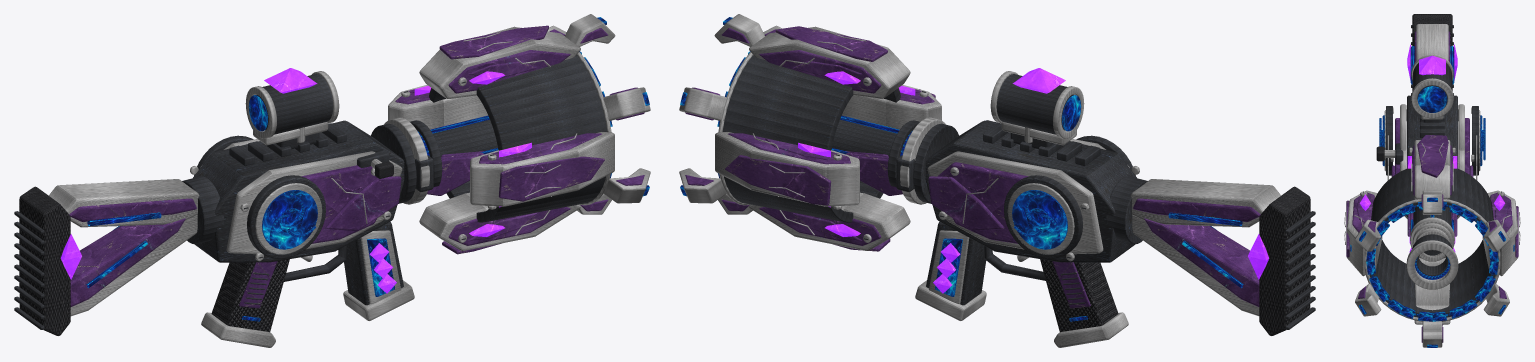
Rendered from prism-grenade.glb.
3 renders of one model, left to right at view 1: azimuth 30°, elevation 25°; view 2: azimuth 150°, elevation 25°; view 3: azimuth 270°, elevation 25°, orthographic. The views are drawn at different scales.
Parts seen in each view (by area): view 1: Runtime_PRISM_ROOT_03, Runtime_PRISM_ROOT_04, Runtime_PRISM_ROOT_01, Runtime_PRISM_ROOT_05, Runtime_Grenade_chamber_sector_02_03, Runtime_Armour_petal_03_01, Runtime_Grenade_chamber_sector_01_03, Runtime_Armour_petal_03_04, Runtime_Armour_petal_00_01, Runtime_PRISM_ROOT_06, Runtime_Armour_petal_00_04, Runtime_Armour_petal_02_04 (+24 smaller); view 2: Runtime_PRISM_ROOT_03, Runtime_PRISM_ROOT_04, Runtime_PRISM_ROOT_01, Runtime_PRISM_ROOT_05, Runtime_Grenade_chamber_sector_10_03, Runtime_Armour_petal_01_01, Runtime_Grenade_chamber_sector_11_03, Runtime_Armour_petal_01_04, Runtime_Armour_petal_00_01, Runtime_PRISM_ROOT_06, Runtime_Armour_petal_00_04, Runtime_Armour_petal_02_04 (+24 smaller); view 3: Runtime_PRISM_ROOT_03, Runtime_PRISM_ROOT_04, Runtime_Muzzle_carrier_04, Runtime_Armour_petal_00_01, Runtime_Armour_petal_00_04, Runtime_Optic_lift_04, Runtime_Grenade_chamber_sector_05_03, Runtime_Grenade_chamber_sector_07_03, Runtime_Armour_petal_02_04, Runtime_Armour_petal_01_04, Runtime_Armour_petal_03_04, Runtime_Grenade_chamber_sector_01_03 (+43 smaller).
Boxes of the visible parts, x1,y1,x2,y2 form: Runtime_PRISM_ROOT_03: (14,120,404,329); Runtime_PRISM_ROOT_04: (49,127,402,347); Runtime_PRISM_ROOT_01: (69,165,392,308); Runtime_PRISM_ROOT_05: (19,186,289,335); Runtime_Grenade_chamber_sector_02_03: (490,89,606,150); Runtime_Armour_petal_03_01: (479,133,604,201); Runtime_Grenade_chamber_sector_01_03: (476,56,595,119); Runtime_Armour_petal_03_04: (470,132,614,209); Runtime_Armour_petal_00_01: (439,25,570,93); Runtime_PRISM_ROOT_06: (86,190,317,321); Runtime_Armour_petal_00_04: (419,26,580,98); Runtime_Armour_petal_02_04: (419,192,580,250); Runtime_PRISM_ROOT_03: (925,120,1315,329); Runtime_PRISM_ROOT_04: (927,127,1280,347); Runtime_PRISM_ROOT_01: (937,162,1260,308); Runtime_PRISM_ROOT_05: (1040,186,1310,335); Runtime_Grenade_chamber_sector_10_03: (723,89,839,150); Runtime_Armour_petal_01_01: (725,133,850,205); Runtime_Grenade_chamber_sector_11_03: (734,56,853,119); Runtime_Armour_petal_01_04: (715,132,859,209); Runtime_Armour_petal_00_01: (759,26,887,93); Runtime_PRISM_ROOT_06: (1012,190,1243,321); Runtime_Armour_petal_00_04: (749,26,910,98); Runtime_Armour_petal_02_04: (749,192,910,250); Runtime_PRISM_ROOT_03: (1386,25,1478,175); Runtime_PRISM_ROOT_04: (1384,24,1480,171); Runtime_Muzzle_carrier_04: (1406,240,1458,289); Runtime_Armour_petal_00_01: (1413,135,1451,195); Runtime_Armour_petal_00_04: (1409,140,1455,199); Runtime_Optic_lift_04: (1411,54,1453,119); Runtime_Grenade_chamber_sector_05_03: (1386,255,1416,316); Runtime_Grenade_chamber_sector_07_03: (1448,255,1478,316); Runtime_Armour_petal_02_04: (1414,257,1450,324); Runtime_Armour_petal_01_04: (1482,190,1518,276); Runtime_Armour_petal_03_04: (1346,190,1382,276); Runtime_Grenade_chamber_sector_01_03: (1385,168,1416,221).
Size of the model in its own units: 5.99 by 2.61 by 1.97.
9 materials, 9 textured.
